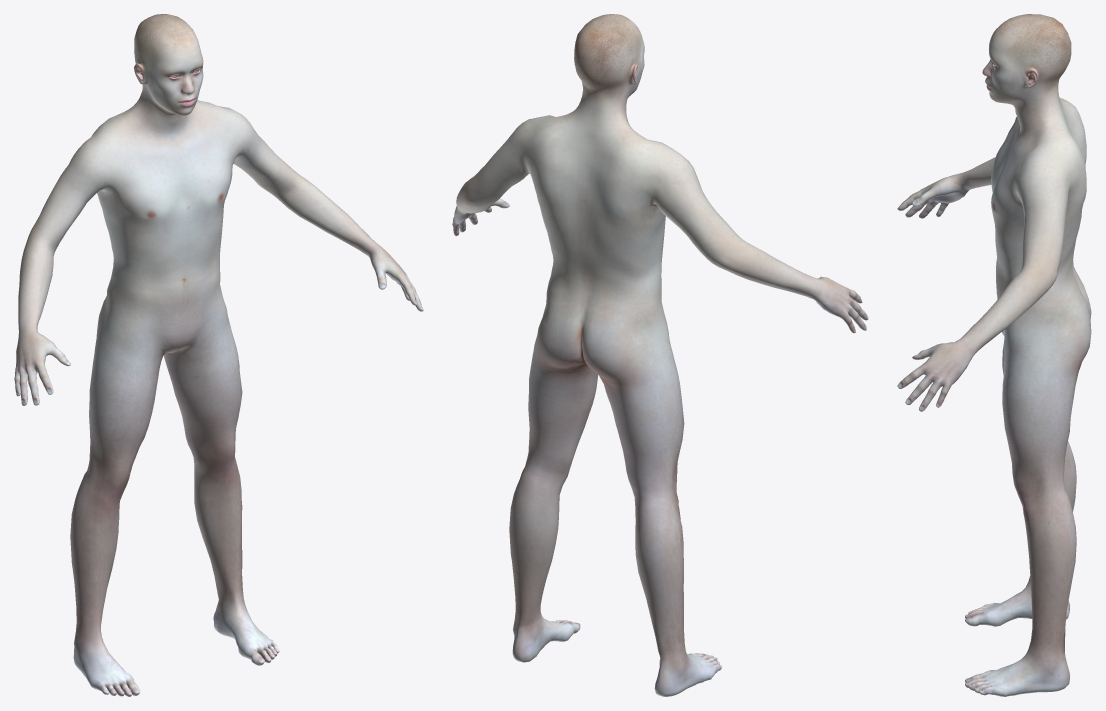
The model's file is avatar_male.glb.
3 views of the same model, side by side, from view 1: azimuth 30°, elevation 25°; view 2: azimuth 150°, elevation 25°; view 3: azimuth 270°, elevation 25° (orthographic).
Visible parts, largest first — view 1: avatar; view 2: avatar; view 3: avatar.
Part boxes in pixels (box(x1,y1,x2,y2)): avatar: box(14, 14, 423, 696); avatar: box(452, 14, 868, 696); avatar: box(897, 14, 1091, 696).
Bounding box in the file's own units: 1.13 × 1.73 × 0.4761.
1 material, 1 textured.
